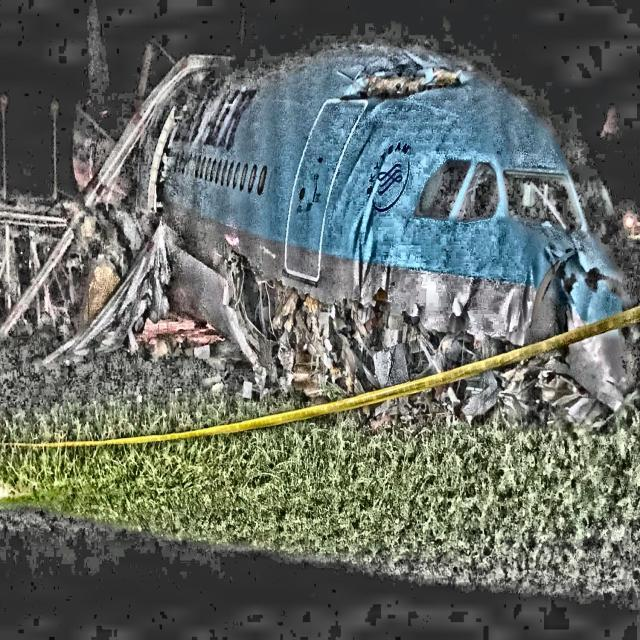crack: (341, 72, 463, 108)
